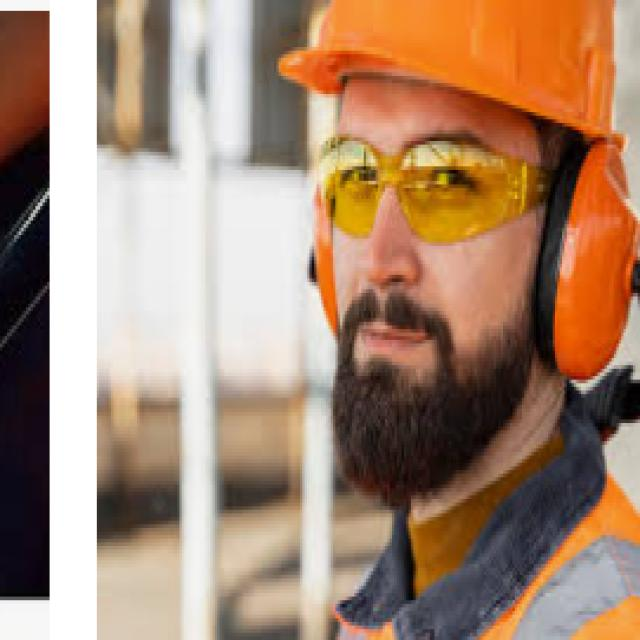glasses: (323, 130, 602, 246)
